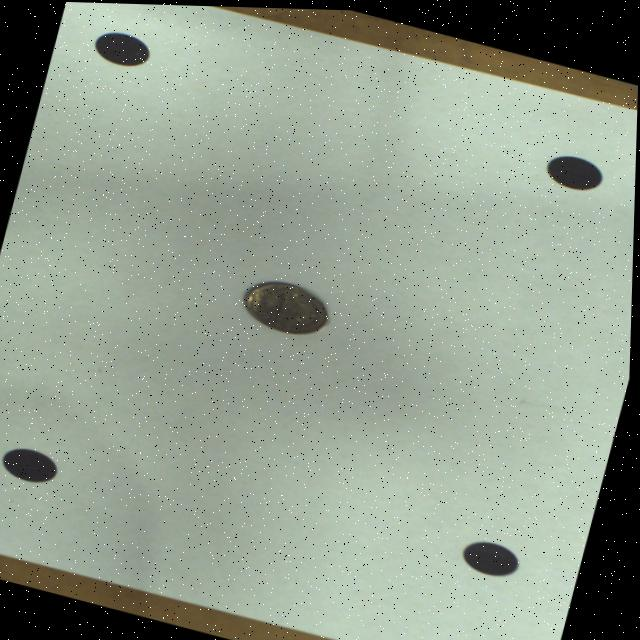space: (466, 537, 522, 572), (547, 151, 604, 185), (5, 447, 61, 481), (95, 31, 150, 64)
tail5bath: (245, 279, 330, 331)
